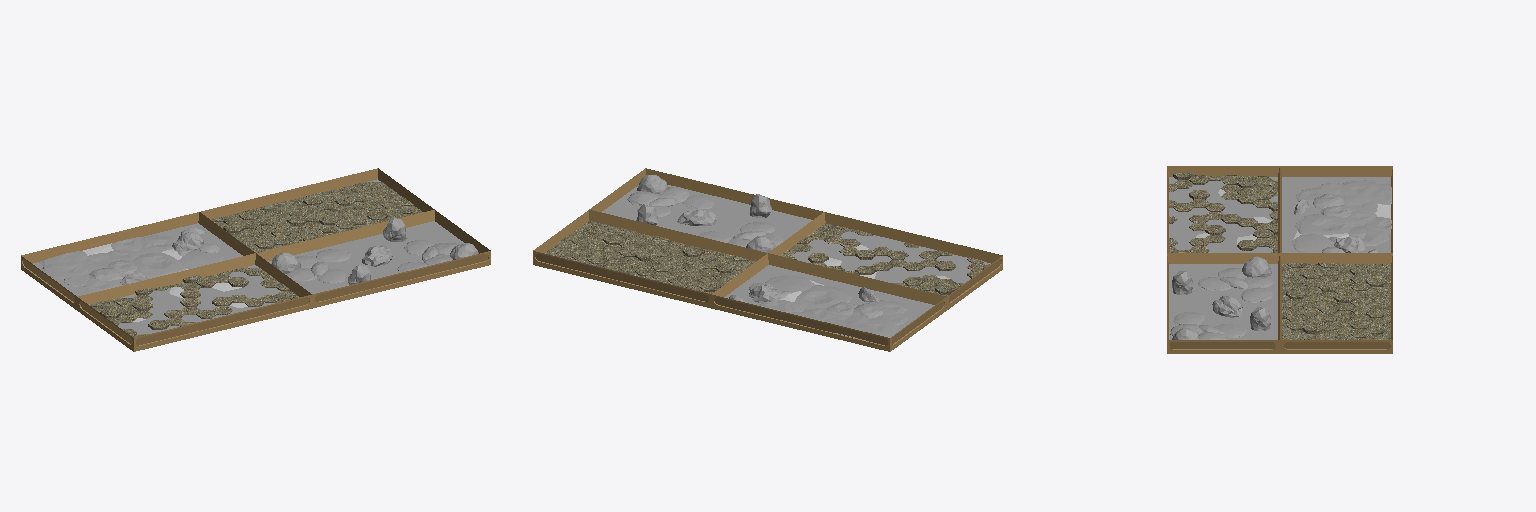
The picture shows the model from 3 angles: view 1: azimuth 30°, elevation 25°; view 2: azimuth 150°, elevation 25°; view 3: azimuth 270°, elevation 25°; orthographic projection.
Parts seen in each view (by area): view 1: walls.001_wall1_walls_Cube.002_Cube.002_Material_wall1_walls_Cub, hex.093_Circle.093, Icosphere.001_Icosphere.003, floor_floor_Cube_Cube_Material.000_floor_Cube_Cube_Material.000_; view 2: walls.001_wall1_walls_Cube.002_Cube.002_Material_wall1_walls_Cub, hex.093_Circle.093, Icosphere.001_Icosphere.003, floor_floor_Cube_Cube_Material.000_floor_Cube_Cube_Material.000_; view 3: hex.093_Circle.093, Icosphere.001_Icosphere.003, floor_floor_Cube_Cube_Material.000_floor_Cube_Cube_Material.000_, walls.001_wall1_walls_Cube.002_Cube.002_Material_wall1_walls_Cub.
Boxes of the visible parts, x1,y1,x2,y2 form: walls.001_wall1_walls_Cube.002_Cube.002_Material_wall1_walls_Cub: [21, 168, 490, 351]; hex.093_Circle.093: [89, 181, 421, 337]; Icosphere.001_Icosphere.003: [39, 218, 478, 290]; floor_floor_Cube_Cube_Material.000_floor_Cube_Cube_Material.000_: [33, 179, 464, 333]; walls.001_wall1_walls_Cube.002_Cube.002_Material_wall1_walls_Cub: [533, 168, 1002, 351]; hex.093_Circle.093: [544, 221, 990, 296]; Icosphere.001_Icosphere.003: [627, 175, 907, 340]; floor_floor_Cube_Cube_Material.000_floor_Cube_Cube_Material.000_: [602, 185, 990, 331]; hex.093_Circle.093: [1169, 173, 1390, 339]; Icosphere.001_Icosphere.003: [1170, 180, 1391, 339]; floor_floor_Cube_Cube_Material.000_floor_Cube_Cube_Material.000_: [1169, 177, 1390, 339]; walls.001_wall1_walls_Cube.002_Cube.002_Material_wall1_walls_Cub: [1167, 166, 1392, 353].
Size of the model in its own units: 53.01 by 3.39 by 29.
Materials: 6 (1 with a texture image).